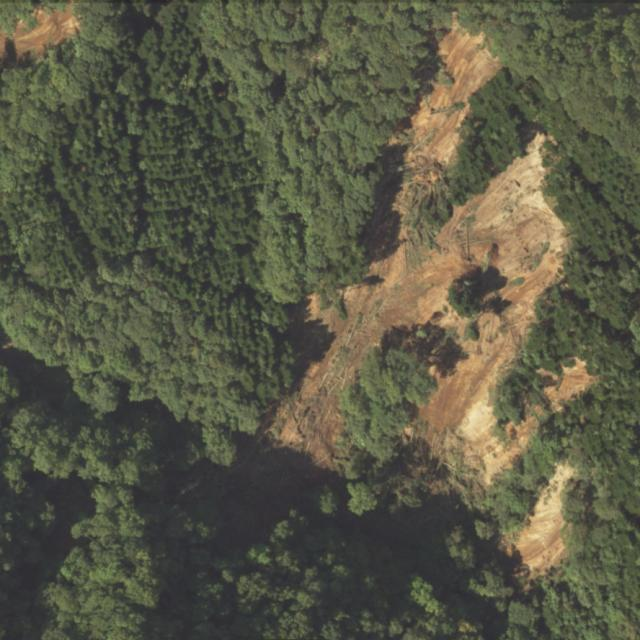landslide: (266, 16, 597, 500), (505, 464, 575, 581)
